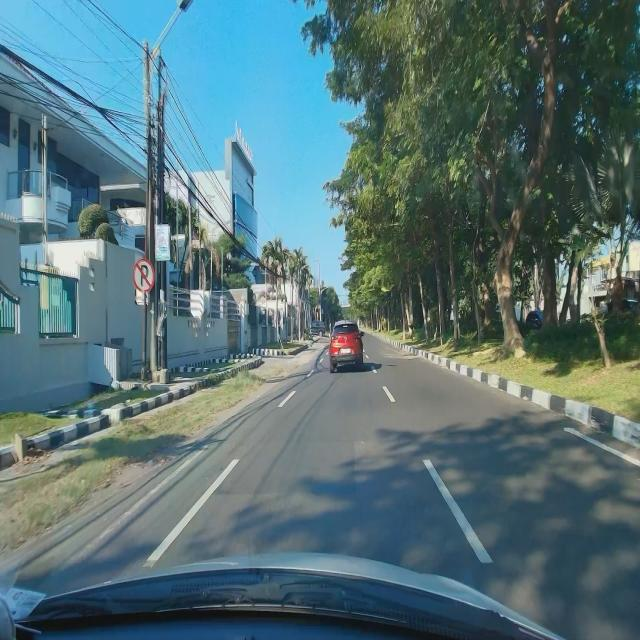car: (329, 316, 366, 374)
license-plate: (341, 348, 351, 354)
